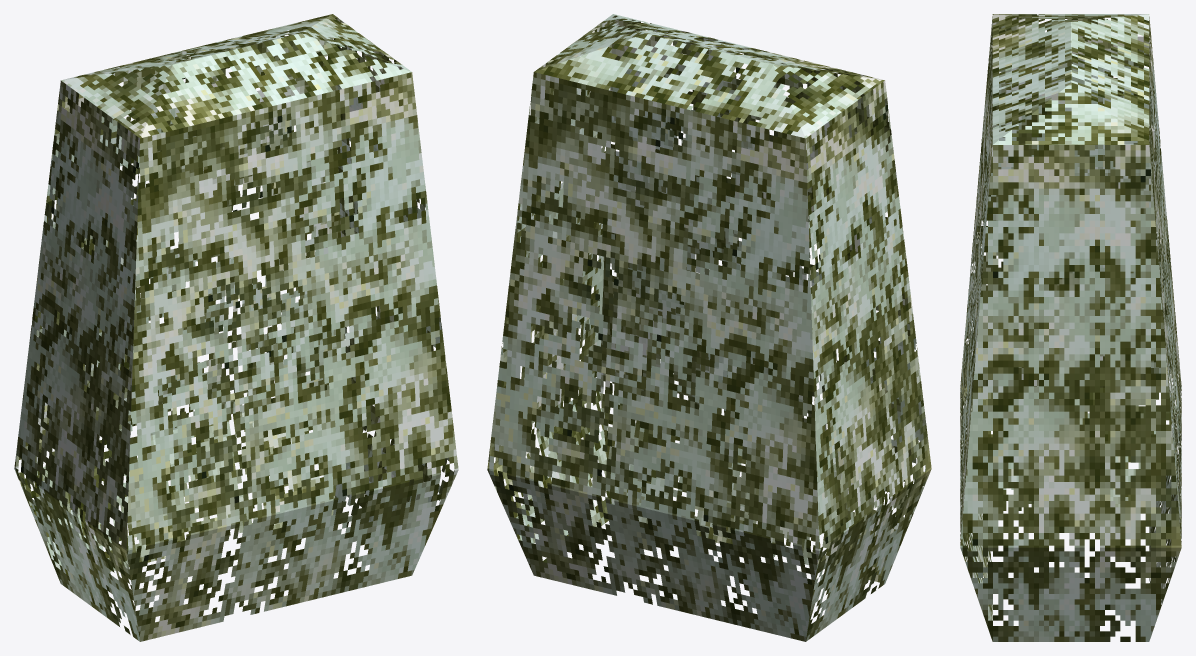
Rendered from bush_tall_half_single_winter.glb.
3 views of the same model, side by side, from view 1: azimuth 30°, elevation 25°; view 2: azimuth 150°, elevation 25°; view 3: azimuth 270°, elevation 25° (orthographic).
Parts seen in each view (by area): view 1: bush_tall_half_single_winter; view 2: bush_tall_half_single_winter; view 3: bush_tall_half_single_winter.
Part boxes in pixels (bbox=[...]): bush_tall_half_single_winter: bbox=[14, 14, 458, 641]; bush_tall_half_single_winter: bbox=[487, 14, 931, 641]; bush_tall_half_single_winter: bbox=[960, 14, 1181, 641].
Bounding box in the file's own units: 1.23 × 1.88 × 0.7191.
1 material, 1 textured.
